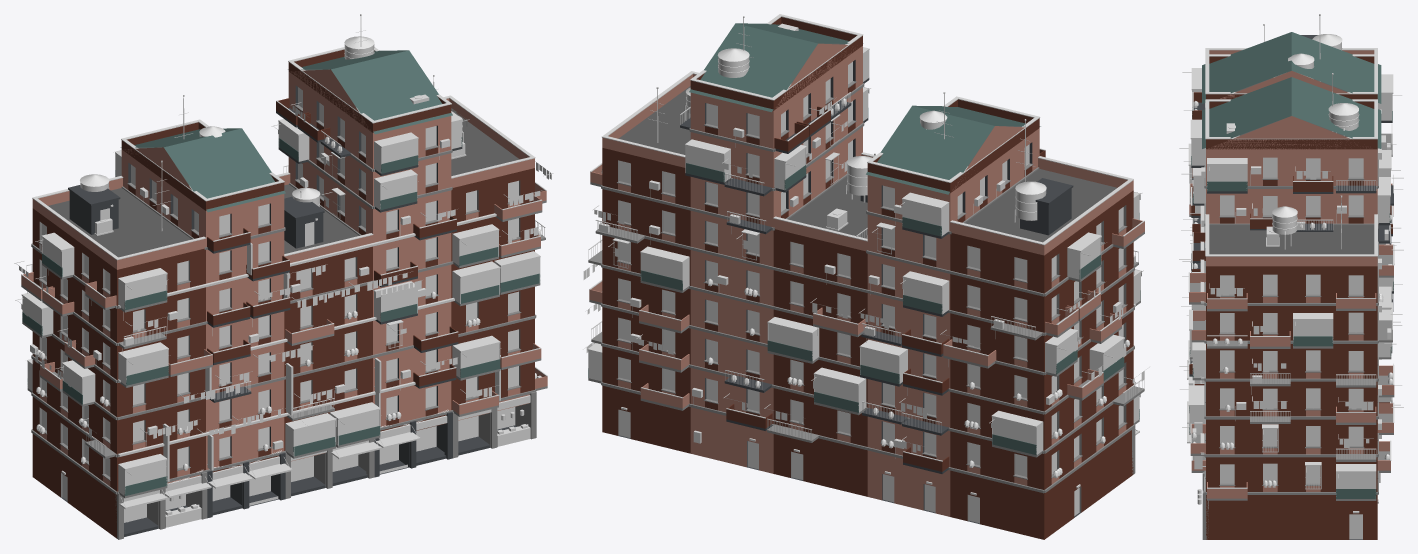
File: LM_CW_WaterfrontRow.fbx
The picture shows the model from 3 angles, left to right: view 1: azimuth 30°, elevation 25°; view 2: azimuth 150°, elevation 25°; view 3: azimuth 270°, elevation 25°; orthographic projection. The views are drawn at different scales.
Parts seen in each view (by area): view 1: LM_CW_WaterfrontRow_LOD0; view 2: LM_CW_WaterfrontRow_LOD0; view 3: LM_CW_WaterfrontRow_LOD0.
Boxes of the visible parts, <box> form: LM_CW_WaterfrontRow_LOD0: <box>14,14,553,539</box>; LM_CW_WaterfrontRow_LOD0: <box>583,14,1149,539</box>; LM_CW_WaterfrontRow_LOD0: <box>1179,14,1403,539</box>.
Size of what is drawn, in the model's own units: 44.32 by 36.97 by 18.33.
